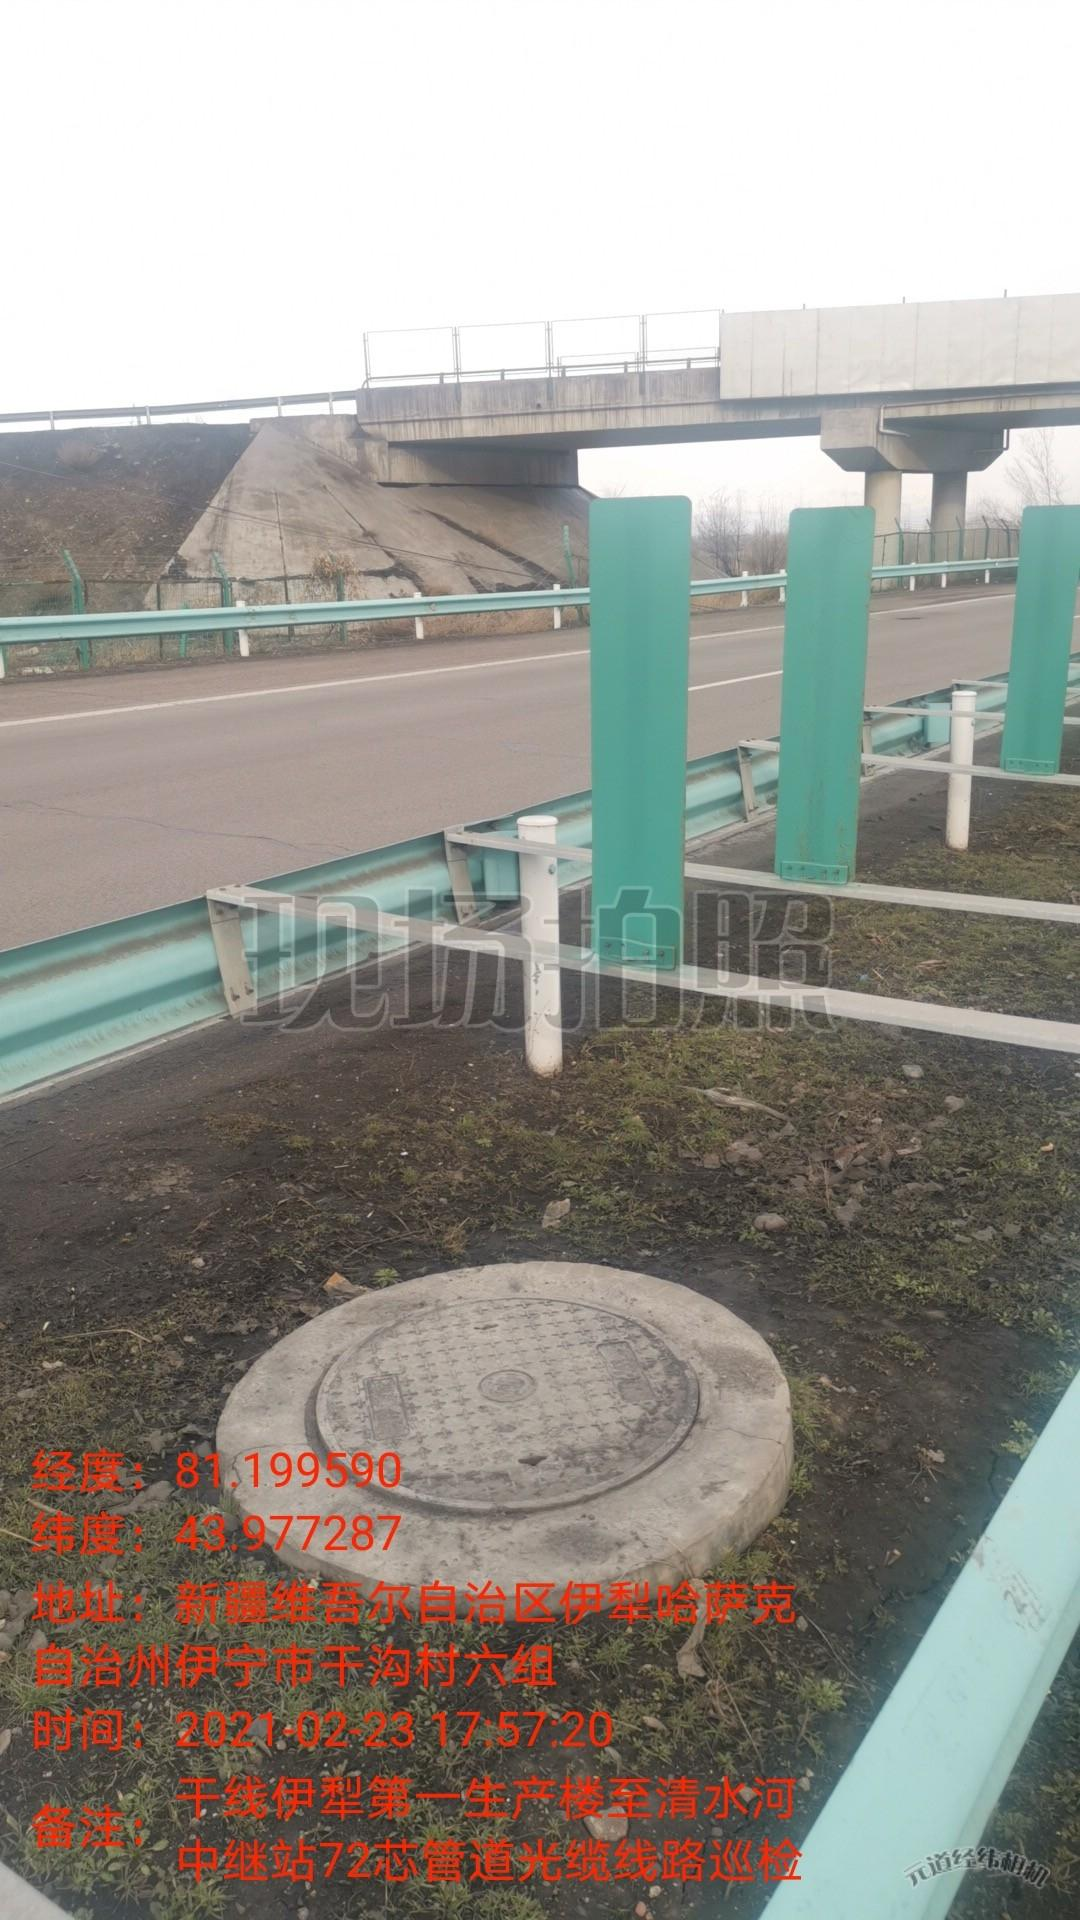wellcover: (222, 1241, 827, 1604)
